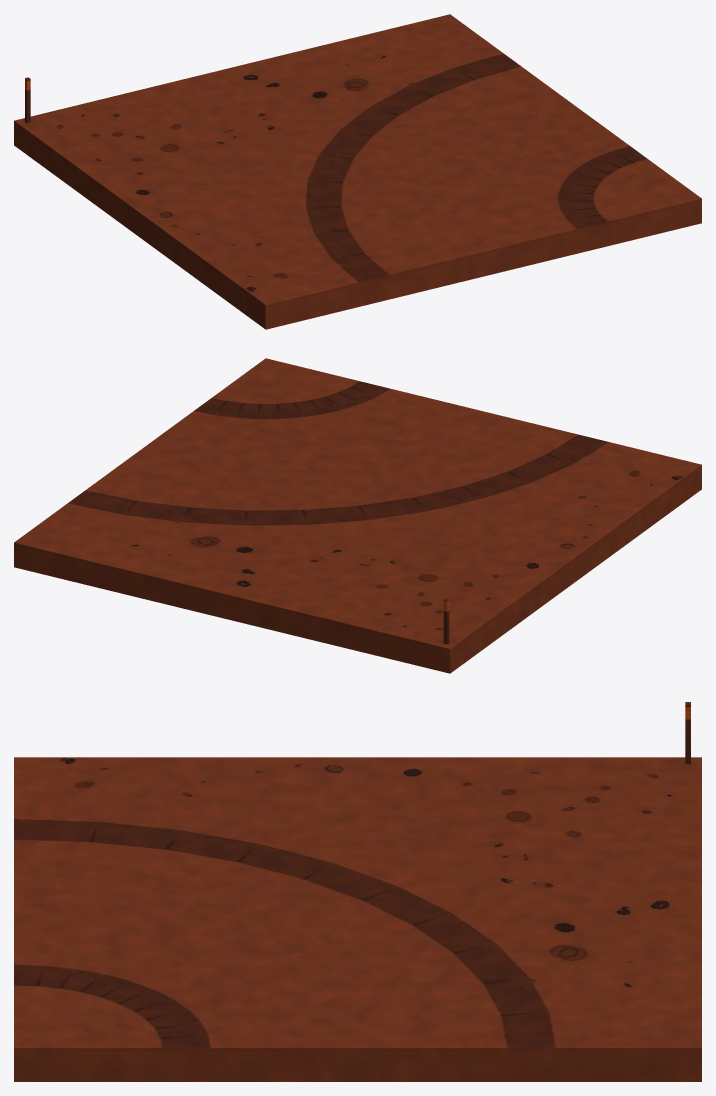
File: road_corner.glb
3 renders of one model, top to bottom at view 1: azimuth 30°, elevation 25°; view 2: azimuth 150°, elevation 25°; view 3: azimuth 270°, elevation 25°, orthographic. The views are drawn at different scales.
Visible parts, largest first — view 1: road_corner; view 2: road_corner; view 3: road_corner.
Boxes of the visible parts, bbox=[...] form: road_corner: bbox=[14, 14, 701, 329]; road_corner: bbox=[14, 358, 701, 673]; road_corner: bbox=[14, 702, 701, 1081].
Bounding box in the file's own units: 6 × 0.9 × 6.
1 material, 1 textured.
